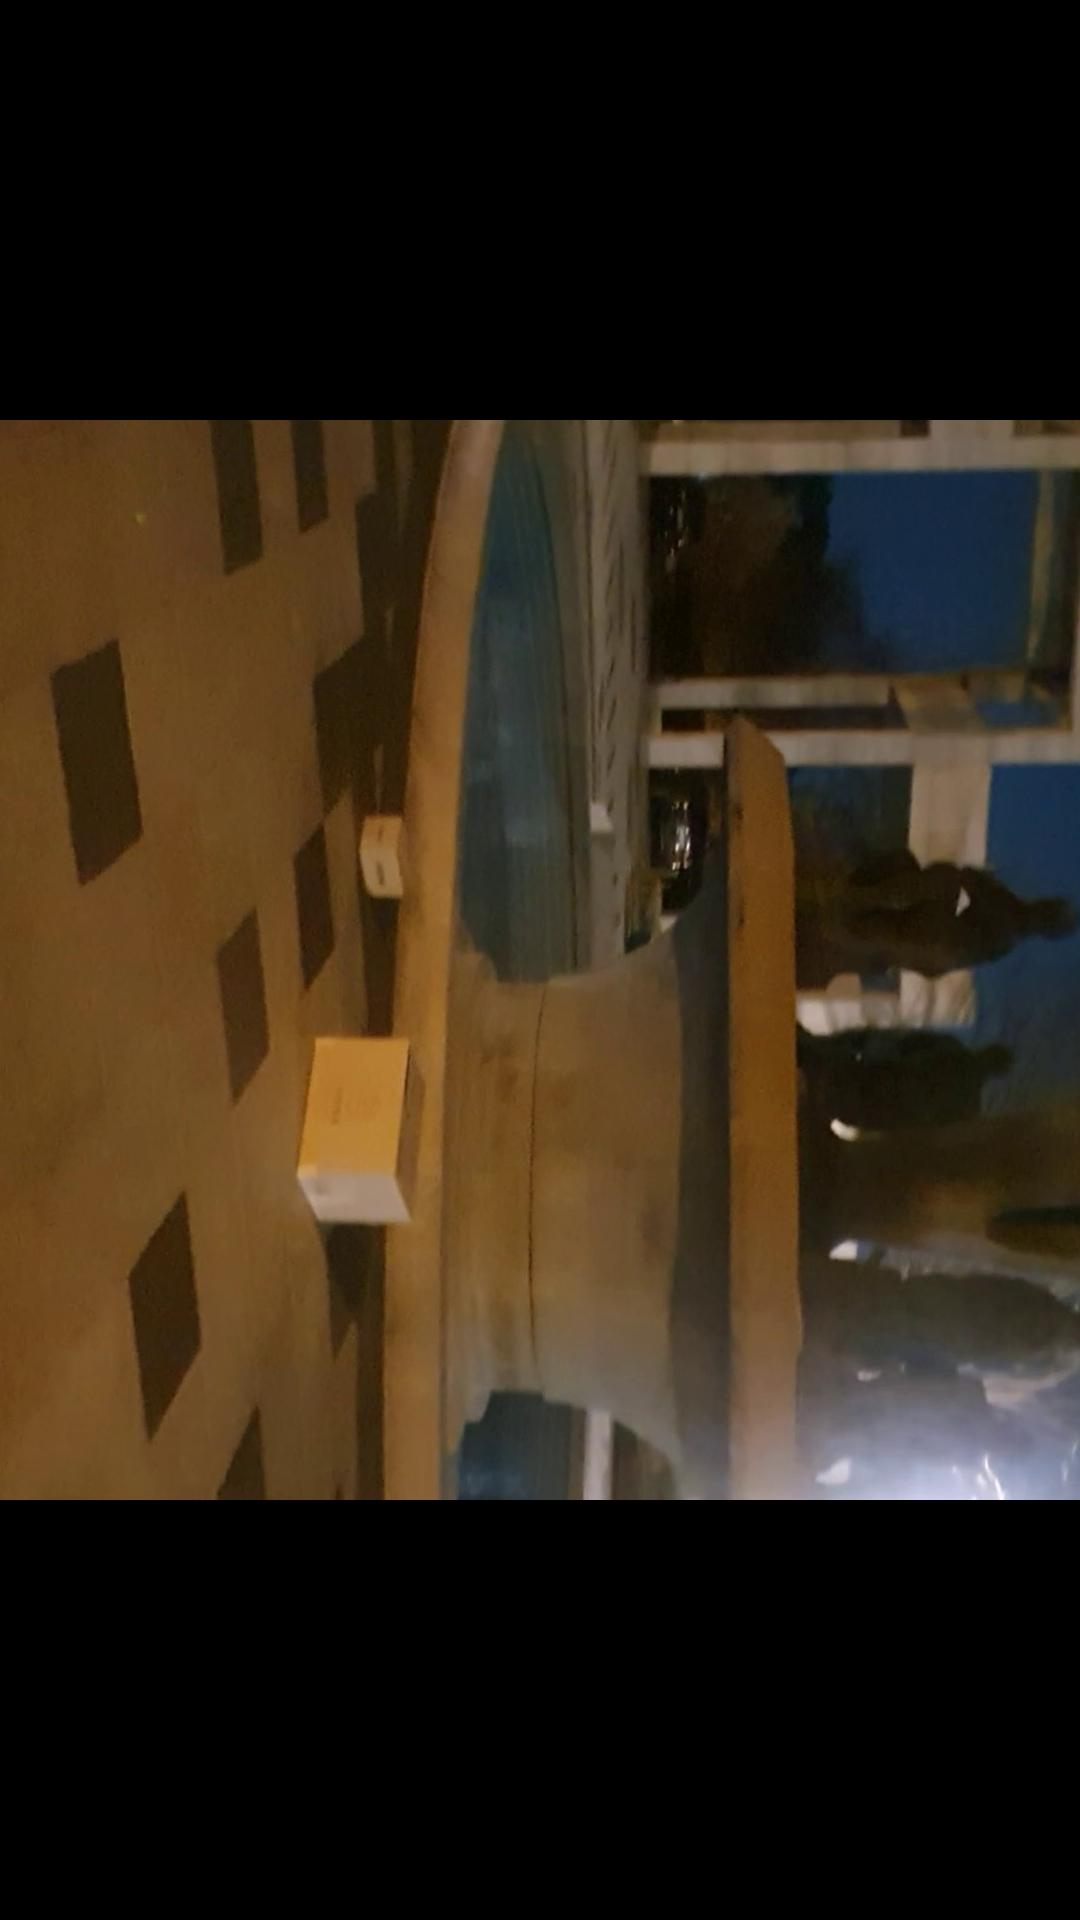Box: (276, 1021, 440, 1225), (349, 791, 433, 905)
